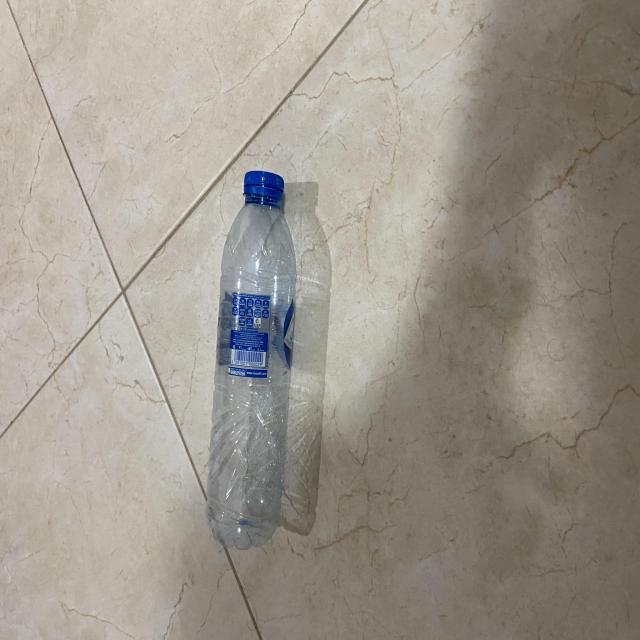bottle: (204, 166, 289, 558)
